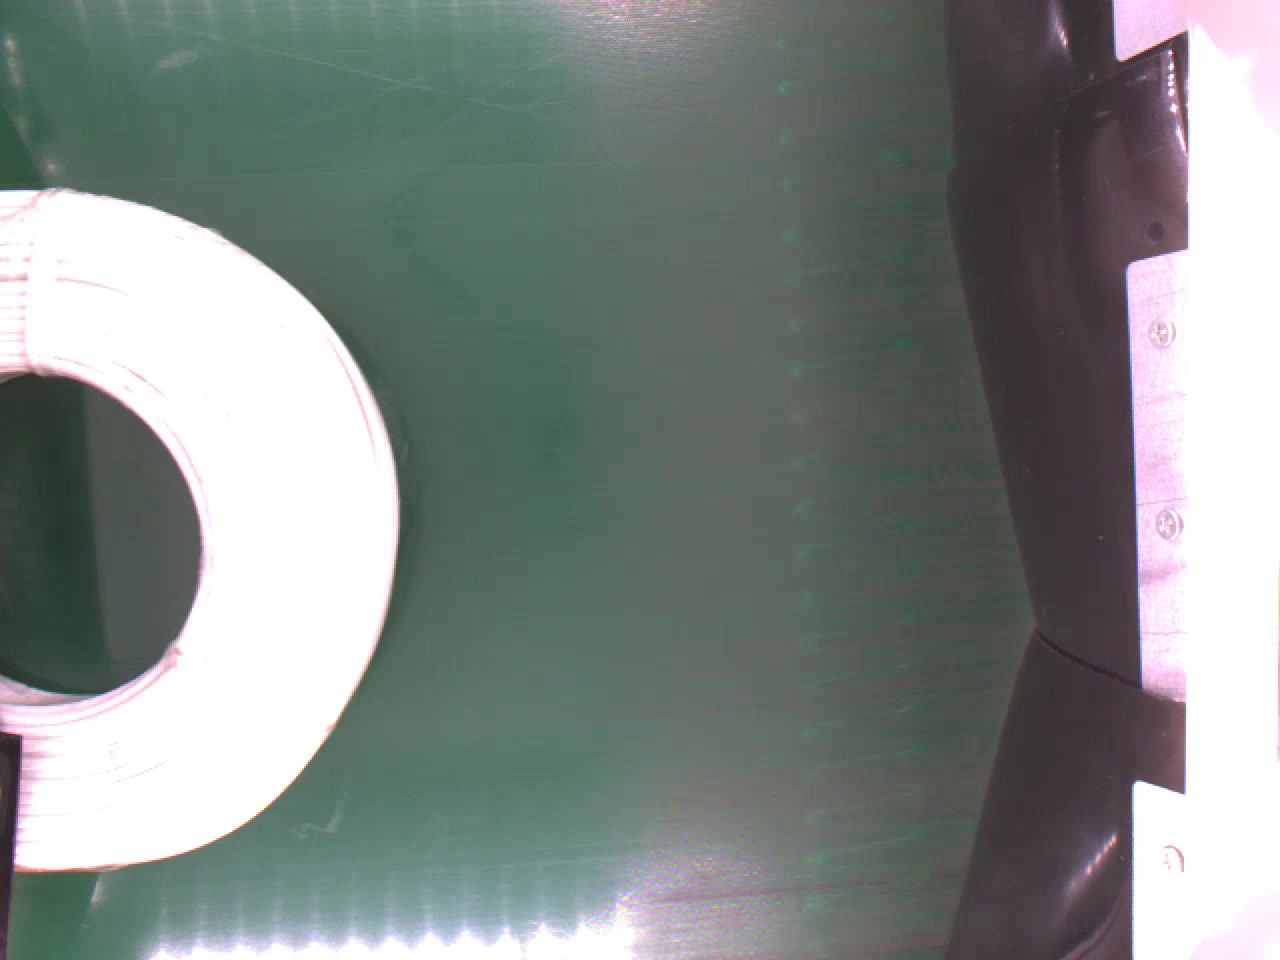white: (0, 176, 405, 875)
